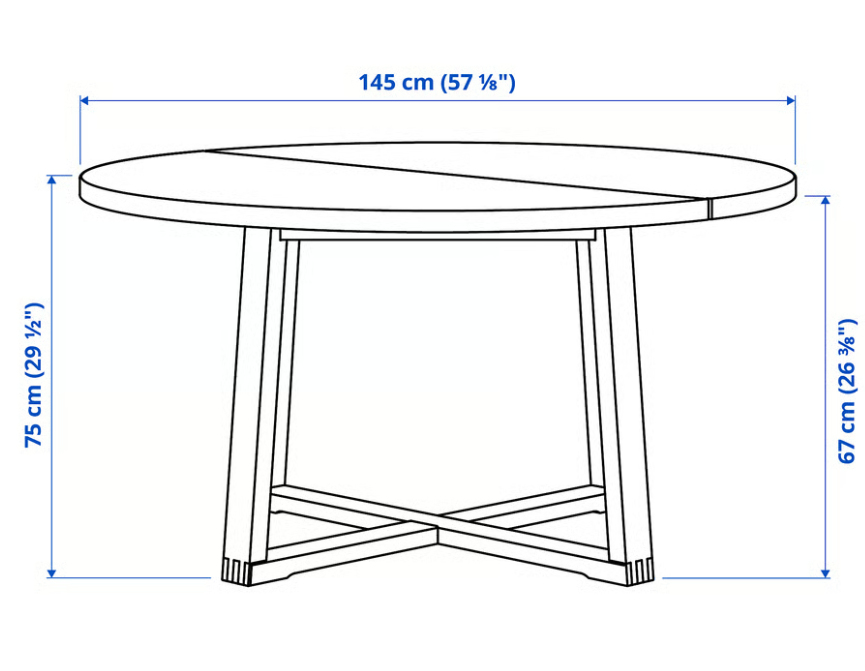table_legs: (222, 227, 439, 586), (438, 226, 654, 586), (270, 240, 439, 529), (439, 240, 606, 529)
table_top: (78, 142, 796, 240)
